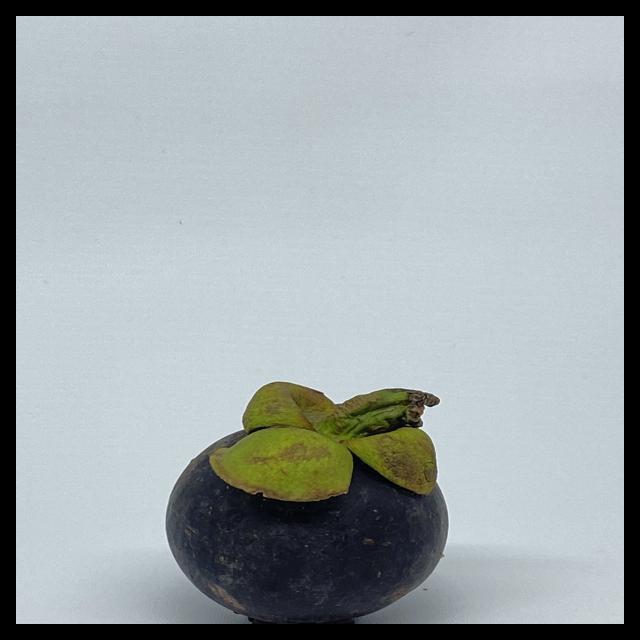mangosteen: (151, 371, 468, 624)
